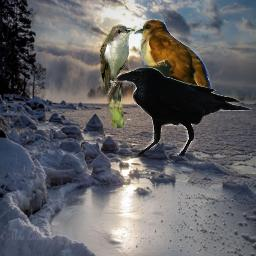Crow: (114, 67, 253, 160)
Cuckoo: (134, 19, 212, 111), (100, 22, 135, 128)
